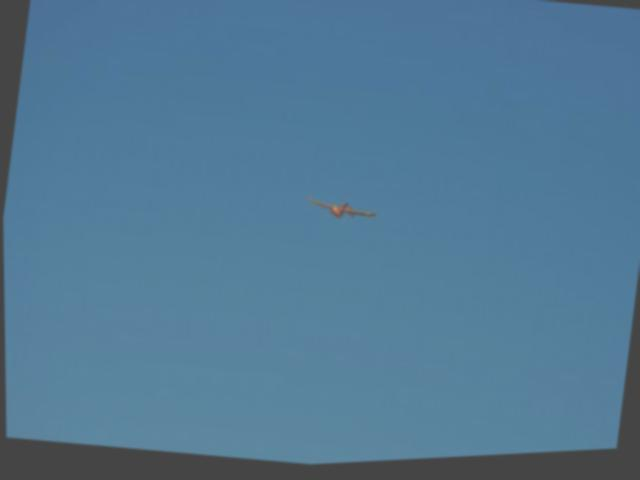iha: (307, 199, 375, 229)
